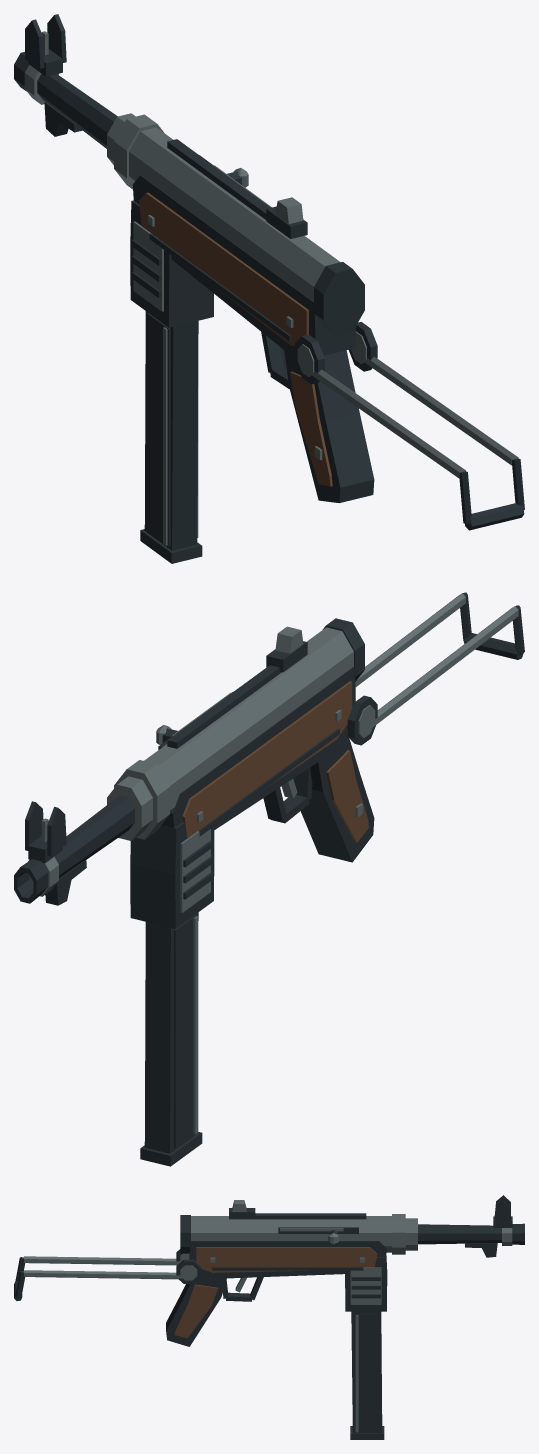
The picture shows the model from 3 angles, top to bottom: view 1: azimuth 30°, elevation 25°; view 2: azimuth 150°, elevation 25°; view 3: azimuth 270°, elevation 25°; orthographic projection. The views are drawn at different scales.
Visible parts, largest first — view 1: Receiver_tube_0, Straight_magazine_35, Bakelite_side_panel_4, Grip_frame_17, Lower_frame_3, Magazine_side_36, Magazine_well_26, Receiver_rear_cap_1, Barrel_42, Grip_panel_18, Folded_stock_arm_55, Folded_stock_arm_59 (+12 smaller); view 2: Receiver_tube_0, Bakelite_side_panel_4, Straight_magazine_35, Magazine_well_26, Magazine_side_36, Grip_frame_17, Lower_frame_3, Barrel_42, Grip_panel_18, Folded_stock_arm_55, Receiver_top_rib_16, Receiver_front_collar_2 (+14 smaller); view 3: Receiver_tube_0, Bakelite_side_panel_8, Magazine_side_38, Lower_frame_3, Barrel_42, Grip_frame_17, Grip_panel_20, Folded_stock_arm_59, Folded_stock_arm_55, Straight_magazine_35, Magazine_well_panel_31, Magazine_well_26 (+9 smaller).
Part boxes in pixels (x1,y1,x2,y2): Receiver_tube_0: (129,127,340,301); Straight_magazine_35: (144,311,198,550); Bakelite_side_panel_4: (139,192,308,346); Grip_frame_17: (284,350,374,503); Lower_frame_3: (132,175,355,357); Magazine_side_36: (147,313,170,546); Magazine_well_26: (130,200,213,327); Receiver_rear_cap_1: (314,262,364,335); Barrel_42: (37,73,117,148); Grip_panel_18: (290,371,332,486); Folded_stock_arm_55: (311,369,465,478); Folded_stock_arm_59: (364,356,518,465); Receiver_tube_0: (144,627,353,811); Bakelite_side_panel_4: (182,681,352,838); Straight_magazine_35: (144,912,198,1153); Magazine_well_26: (130,822,214,928); Magazine_side_36: (174,914,197,1147); Grip_frame_17: (300,732,374,862); Lower_frame_3: (162,666,355,829); Barrel_42: (54,795,134,878); Grip_panel_18: (326,750,368,842); Folded_stock_arm_55: (360,606,518,736); Receiver_top_rib_16: (167,665,281,748); Receiver_front_collar_2: (114,760,169,839); Receiver_tube_0: (191,1216,391,1252); Bakelite_side_panel_8: (196,1247,377,1272); Magazine_side_38: (354,1314,377,1432); Lower_frame_3: (189,1241,386,1278); Barrel_42: (418,1224,501,1244); Grip_frame_17: (166,1274,226,1346); Grip_panel_20: (174,1284,217,1338); Folded_stock_arm_59: (24,1270,182,1279); Folded_stock_arm_55: (24,1256,180,1265); Straight_magazine_35: (351,1311,382,1433); Magazine_well_panel_31: (350,1267,381,1304); Magazine_well_26: (345,1255,387,1311).
Bounding box in the file's own units: 0.0881 × 0.49 × 0.956.
